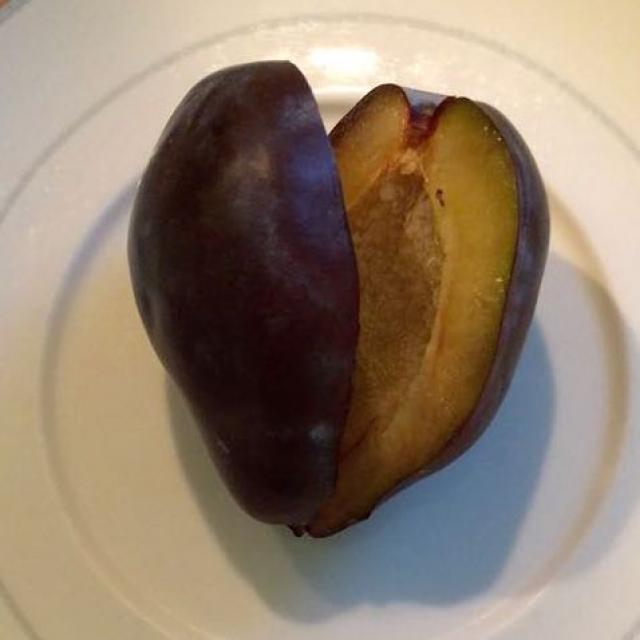plums: (167, 74, 542, 570)
